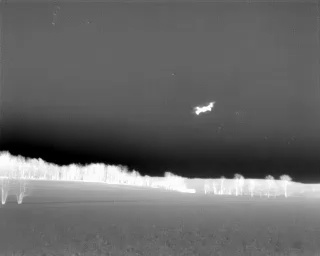DRONE: (190, 96, 219, 120)
